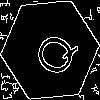Q: (25, 25, 81, 82)
